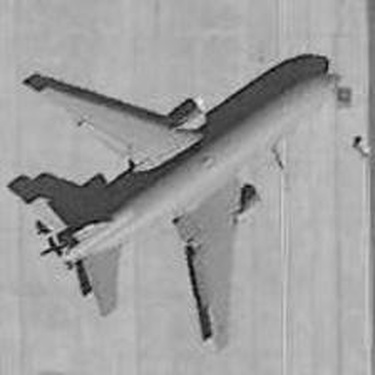airplane: (8, 20, 354, 363)
